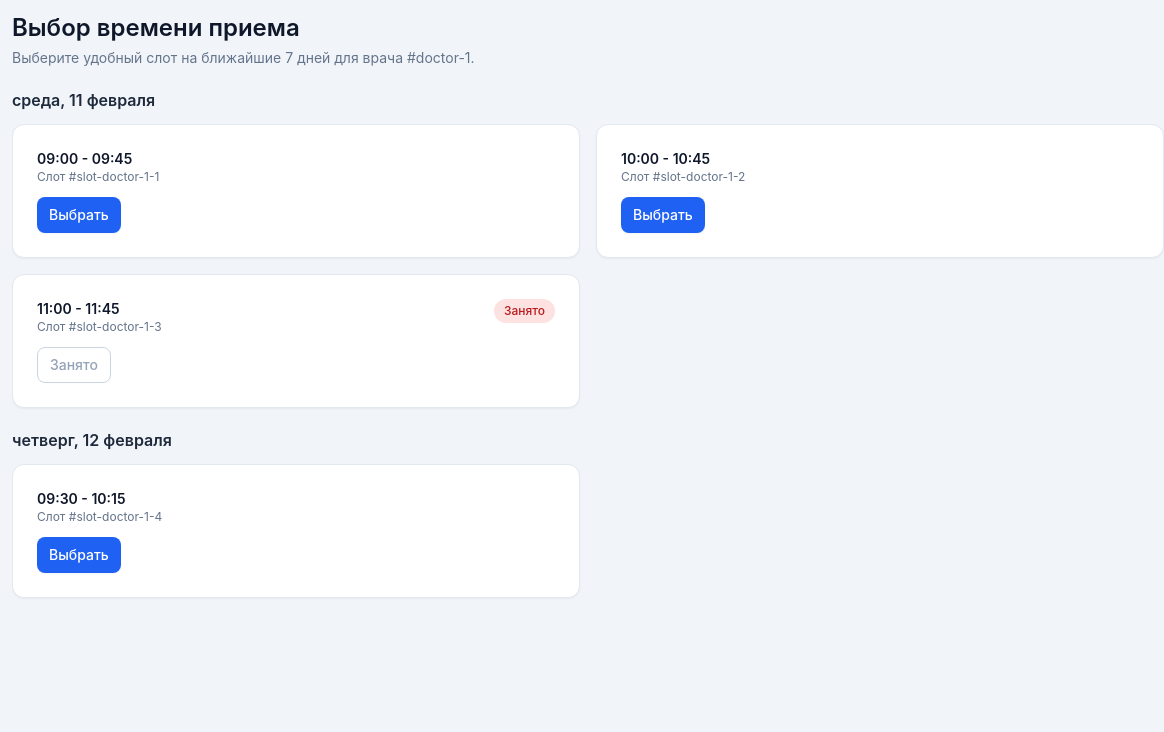
Test: BookingPage integration › успешно загружает слоты и после выбора показывает кнопку продолжения
This screenshot has width=1164, height=732.
Click the button "Выбрать" below "slot-doctor-1-1" at (79, 215), box [37,197,121,233]
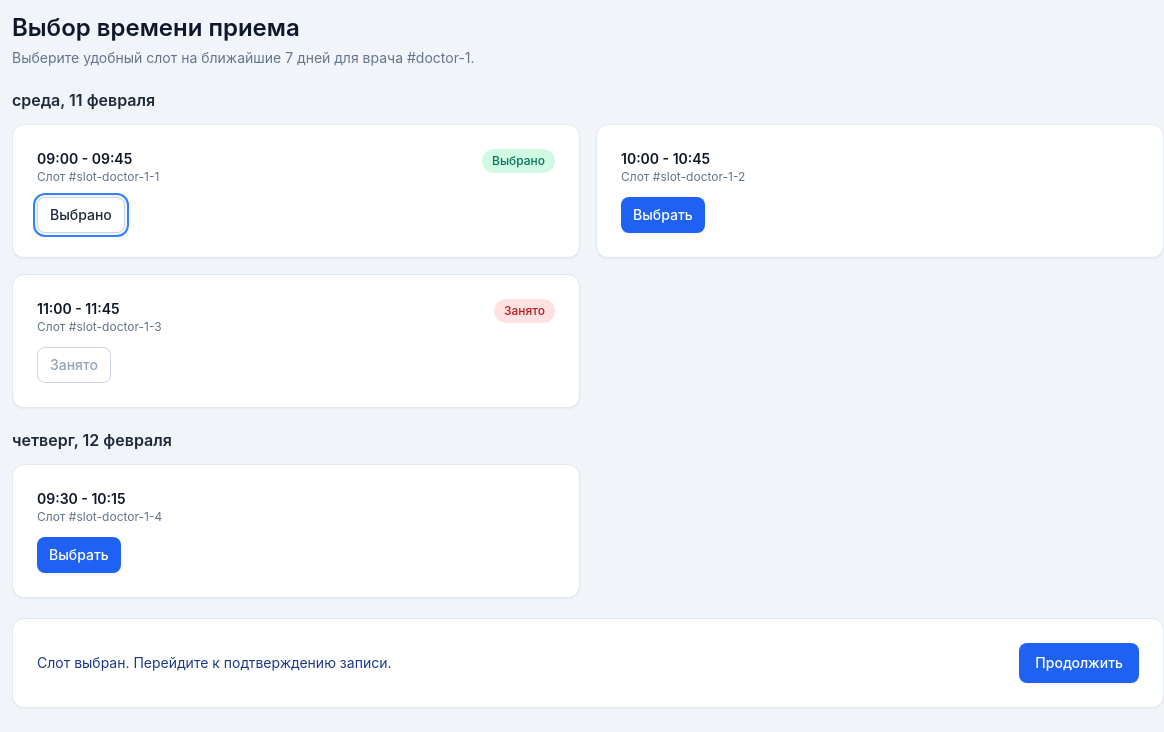
Expected: the button "Продолжить" is shown, [1019,643,1139,683]
